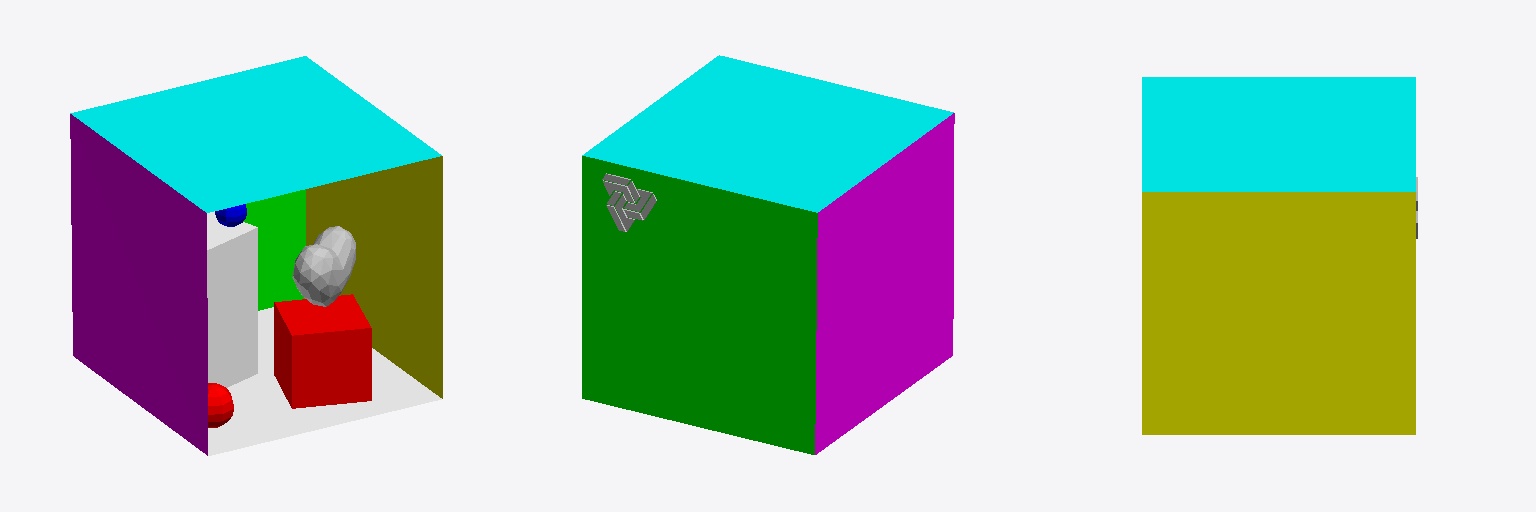
The model's file is loveBox3.obj.
3 views of the same model, side by side, from view 1: azimuth 30°, elevation 25°; view 2: azimuth 150°, elevation 25°; view 3: azimuth 270°, elevation 25° (orthographic).
Visible parts, largest first — view 1: left_wall, ceiling, right_wall, short_box, floor, tall_box, back_wall, Love, sphere2; view 2: back_wall, left_wall, ceiling, logo; view 3: right_wall, ceiling.
Boxes of the visible parts, <box> form: left_wall: <box>70,114,207,455</box>; ceiling: <box>70,56,441,212</box>; right_wall: <box>306,156,442,398</box>; short_box: <box>274,294,371,408</box>; floor: <box>208,307,441,455</box>; tall_box: <box>207,211,257,387</box>; back_wall: <box>243,189,305,310</box>; Love: <box>292,226,355,306</box>; sphere2: <box>208,383,233,427</box>; back_wall: <box>582,156,817,454</box>; left_wall: <box>815,113,954,454</box>; ceiling: <box>582,55,953,212</box>; logo: <box>602,173,656,231</box>; right_wall: <box>1142,192,1415,434</box>; ceiling: <box>1142,77,1415,191</box>.
Bounding box in the file's own units: 5.56 × 5.49 × 5.63.